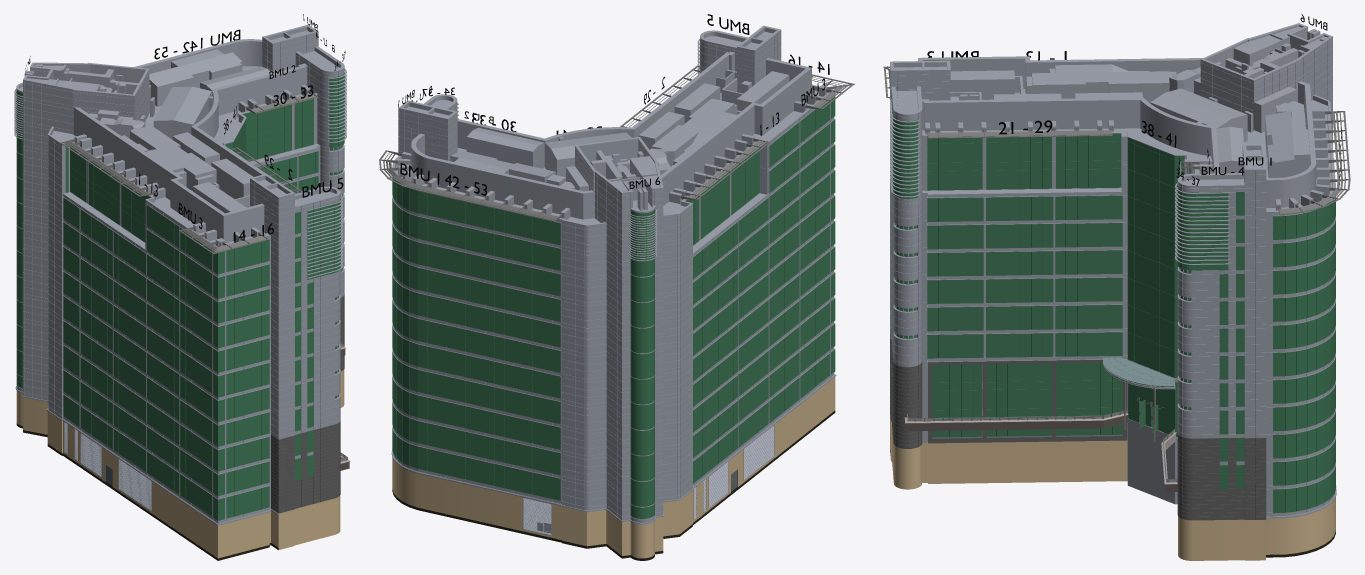
The model's file is 3SheldonSquare.glb.
3 renders of one model, left to right at view 1: azimuth 30°, elevation 25°; view 2: azimuth 150°, elevation 25°; view 3: azimuth 270°, elevation 25°, orthographic. The views are drawn at different scales.
Parts seen in each view (by area): view 1: ID_1_Alluminium_Grey, ID_13_TopDetail_, ID_6_Brick_01_, ID_2_Tile_Dark_, Drop15, Drop16, Drop1, Drop13, Drop14, Drop17, Drop3, Drop9 (+21 smaller); view 2: ID_1_Alluminium_Grey, ID_13_TopDetail_, ID_6_Brick_01_, Drop55, Drop47, Drop49, Drop50, Drop48, Drop51, Drop52, Drop46, Drop45 (+19 smaller); view 3: ID_1_Alluminium_Grey, ID_13_TopDetail_, ID_6_Brick_01_, ID_2_Tile_Dark_, Drop42, Drop28, Drop22, Drop25, Drop27, Drop26, Drop21, Drop29 (+21 smaller).
Boxes of the visible parts, x1,y1,x2,y2 form: ID_1_Alluminium_Grey: [14, 24, 346, 525]; ID_13_TopDetail_: [24, 30, 339, 246]; ID_6_Brick_01_: [16, 369, 344, 558]; ID_2_Tile_Dark_: [271, 295, 344, 513]; Drop15: [234, 244, 252, 516]; Drop16: [252, 239, 269, 511]; Drop1: [63, 147, 86, 426]; Drop13: [201, 244, 217, 520]; Drop14: [218, 249, 234, 520]; Drop17: [295, 206, 320, 480]; Drop3: [91, 166, 109, 441]; Drop9: [157, 212, 168, 486]; ID_1_Alluminium_Grey: [391, 25, 836, 535]; ID_13_TopDetail_: [396, 31, 827, 224]; ID_6_Brick_01_: [392, 377, 835, 558]; Drop55: [636, 211, 653, 518]; Drop47: [437, 195, 456, 477]; Drop49: [475, 204, 494, 485]; Drop50: [494, 208, 513, 490]; Drop48: [456, 200, 475, 481]; Drop51: [513, 213, 532, 494]; Drop52: [533, 217, 551, 498]; Drop46: [418, 191, 436, 472]; Drop45: [402, 186, 417, 468]; ID_1_Alluminium_Grey: [890, 23, 1336, 520]; ID_13_TopDetail_: [893, 26, 1332, 210]; ID_6_Brick_01_: [890, 415, 1335, 560]; ID_2_Tile_Dark_: [890, 333, 1266, 520]; Drop42: [1273, 215, 1296, 512]; Drop28: [1077, 135, 1100, 435]; Drop22: [949, 136, 973, 437]; Drop25: [1007, 136, 1030, 436]; Drop27: [1055, 135, 1077, 435]; Drop26: [1031, 135, 1053, 435]; Drop21: [927, 136, 949, 437]; Drop29: [1100, 133, 1122, 434].
Size of the model in its own units: 55.53 by 69.2 by 72.86.
